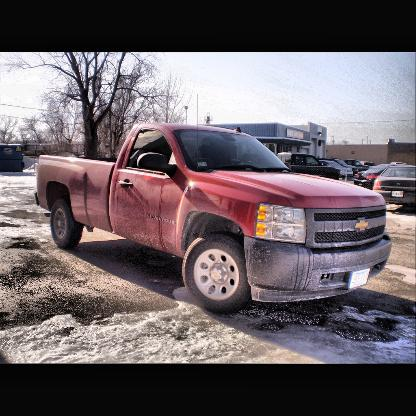Chevrolet Silverado 1500 Regular Cab 2012: (35, 124, 393, 319)
